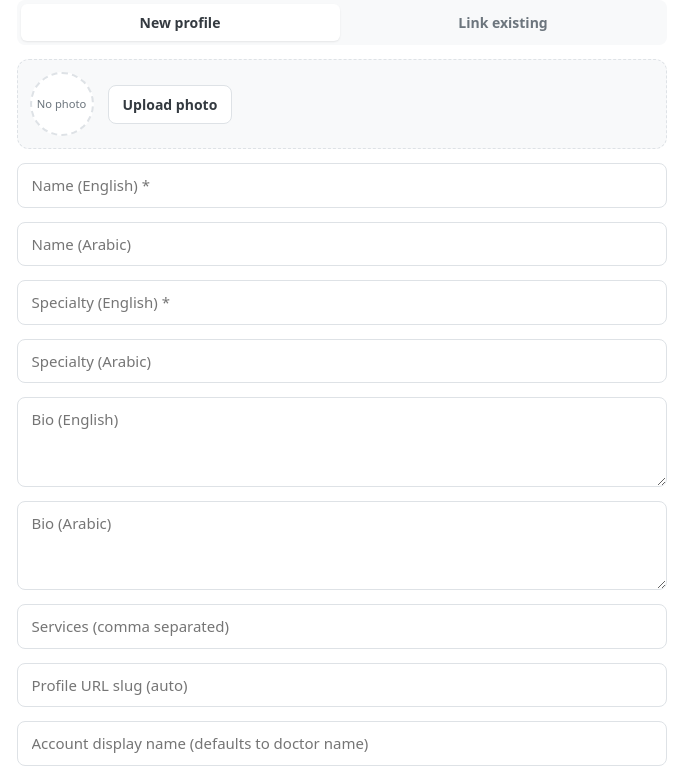
Test: DoctorForm — smart admin creation (5 cases) › 3. switches to link-existing mode with the real catalog dropdown
What coordinates should you click on to do the following:
click the tab "Link existing"
I would click on:
 (503, 22)
Its box is [344,4,662,41].
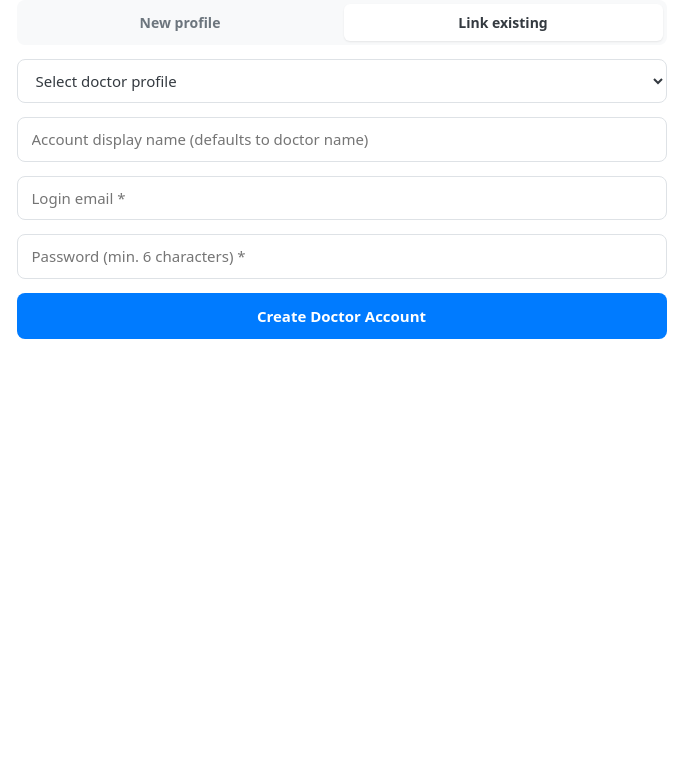
Expected: the field with placeholder "Name (English) *" is not shown
Expected: the dropdown named "Doctor profile" is shown, [16,59,666,103]
